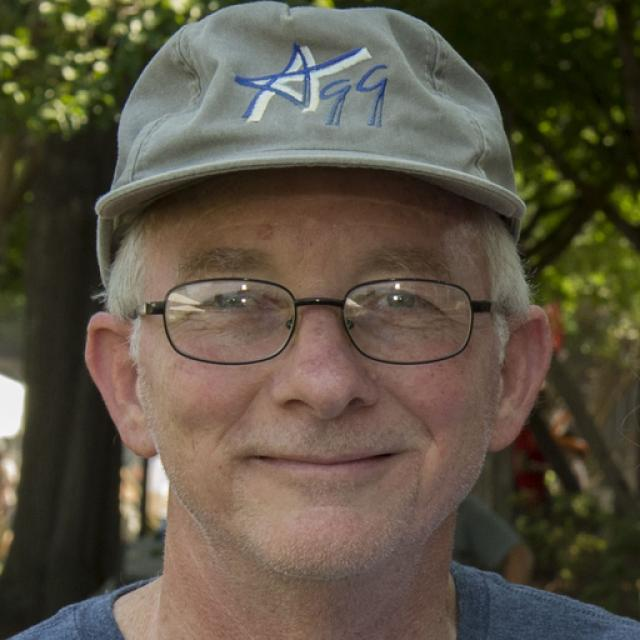happy: (147, 166, 498, 575)
